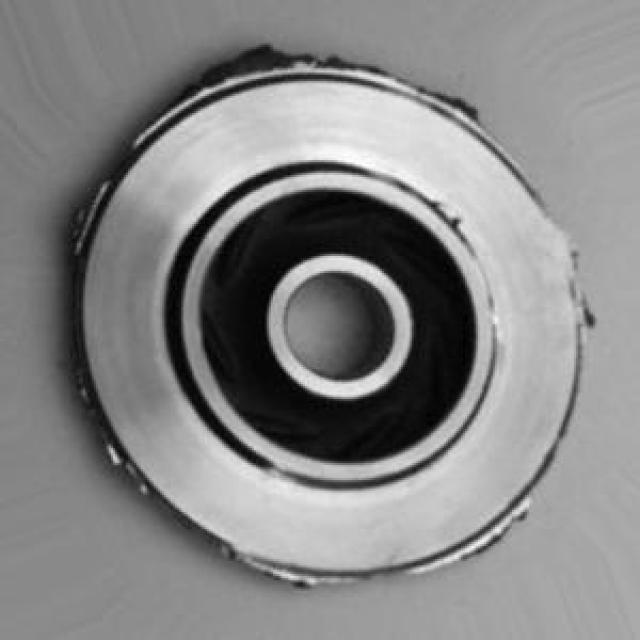Defect: (199, 37, 304, 82)
